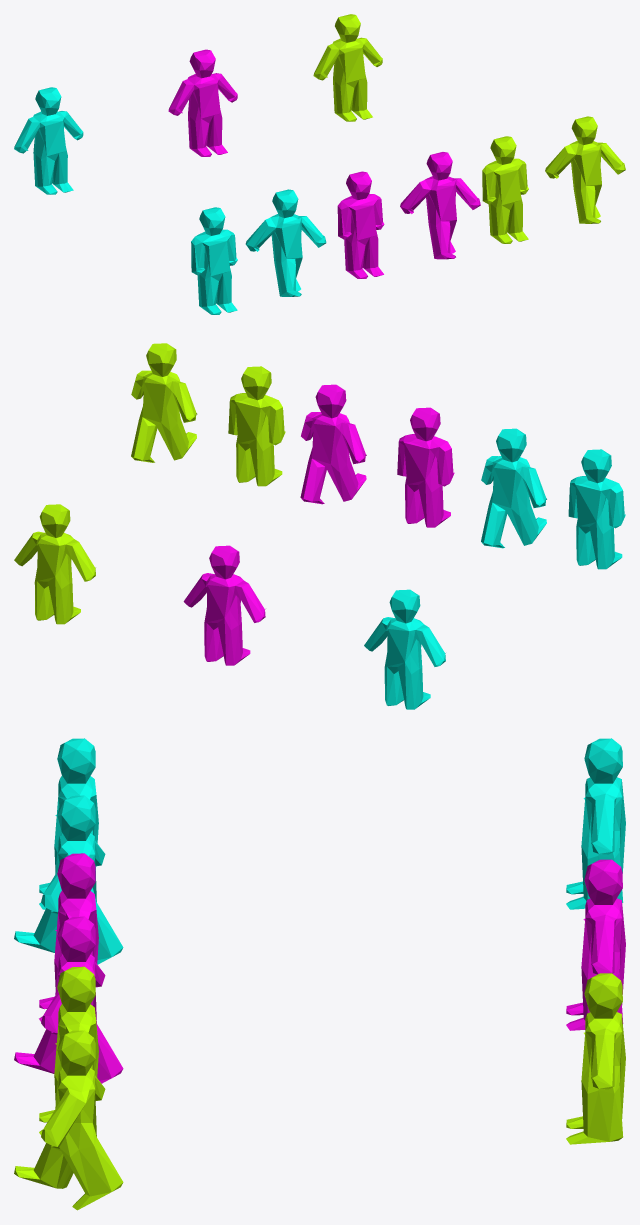
The model's file is HumanCharacters.fbx.
3 views of the same model, one above another, from view 1: azimuth 30°, elevation 25°; view 2: azimuth 150°, elevation 25°; view 3: azimuth 270°, elevation 25° (orthographic). The views are drawn at different scales.
Visible parts, largest first — view 1: BaseCharacter.008, BaseCharacter.006, BaseCharacter.007, BaseCharacter, BaseCharacter.004, BaseCharacter.003, BaseCharacter.001, BaseCharacter.002, BaseCharacter.005; view 2: BaseCharacter.005, BaseCharacter.001, BaseCharacter.002, BaseCharacter.007, BaseCharacter.008, BaseCharacter.006, BaseCharacter, BaseCharacter.004, BaseCharacter.003; view 3: BaseCharacter.005, BaseCharacter.006, BaseCharacter.008, BaseCharacter.007, BaseCharacter.001, BaseCharacter.002, BaseCharacter.004, BaseCharacter.003, BaseCharacter.
Boxes of the visible parts, x1,y1,x2,y2 form: BaseCharacter.008: (14, 87, 83, 194); BaseCharacter.006: (313, 14, 382, 121); BaseCharacter.007: (168, 49, 237, 156); BaseCharacter: (191, 207, 237, 314); BaseCharacter.004: (482, 136, 528, 243); BaseCharacter.003: (337, 171, 384, 278); BaseCharacter.001: (245, 189, 326, 296); BaseCharacter.002: (400, 152, 480, 259); BaseCharacter.005: (545, 116, 625, 223); BaseCharacter.005: (131, 343, 197, 462); BaseCharacter.001: (481, 428, 546, 548); BaseCharacter.002: (300, 384, 366, 504); BaseCharacter.007: (183, 545, 265, 665); BaseCharacter.008: (364, 589, 445, 709); BaseCharacter.006: (14, 504, 95, 624); BaseCharacter: (568, 449, 625, 569); BaseCharacter.004: (228, 366, 285, 486); BaseCharacter.003: (397, 407, 454, 527); BaseCharacter.005: (14, 1030, 123, 1210); BaseCharacter.006: (566, 973, 625, 1144); BaseCharacter.008: (566, 738, 625, 909); BaseCharacter.007: (566, 859, 625, 1030); BaseCharacter.001: (14, 795, 123, 964); BaseCharacter.002: (14, 916, 123, 1083); BaseCharacter.004: (39, 966, 98, 1135); BaseCharacter.003: (39, 853, 98, 1021); BaseCharacter: (39, 738, 98, 909).
Size of the model in its own units: 4028 by 894 by 3032.
